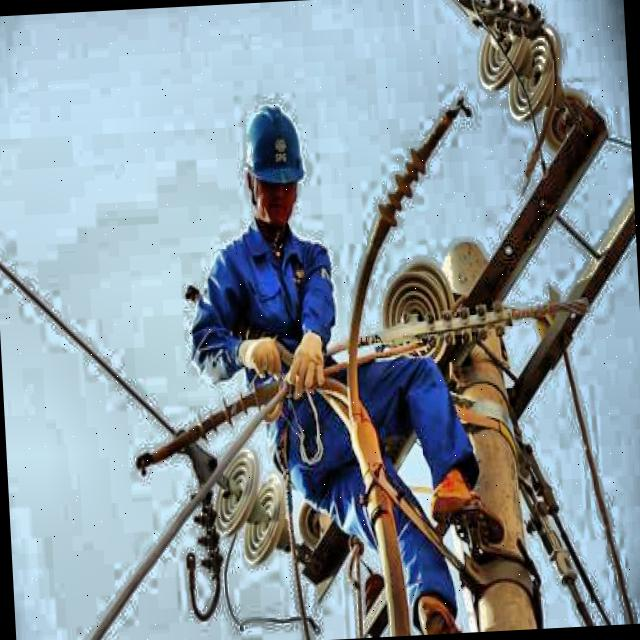helmet: (238, 85, 312, 244)
